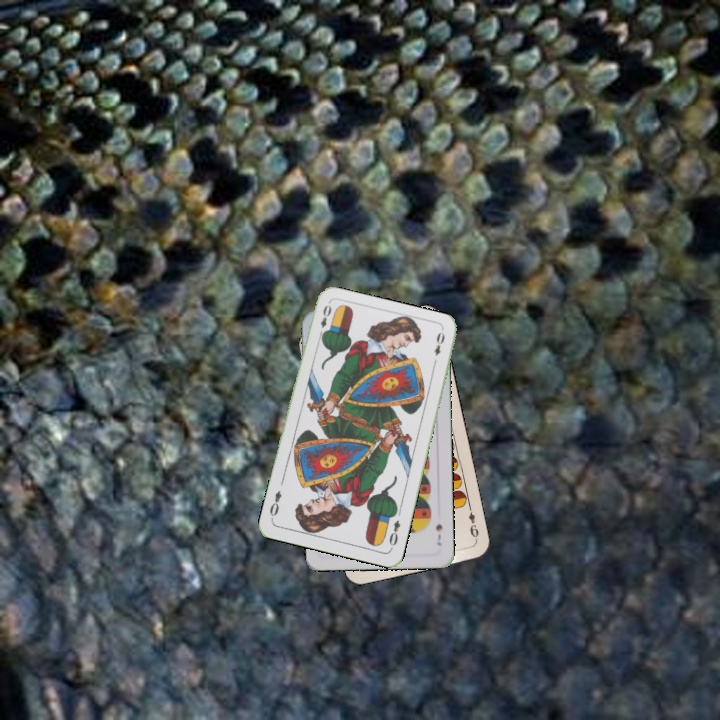E9: (465, 503, 481, 544)
EO: (315, 301, 334, 340), (385, 516, 403, 552)
S7: (432, 520, 445, 548)
